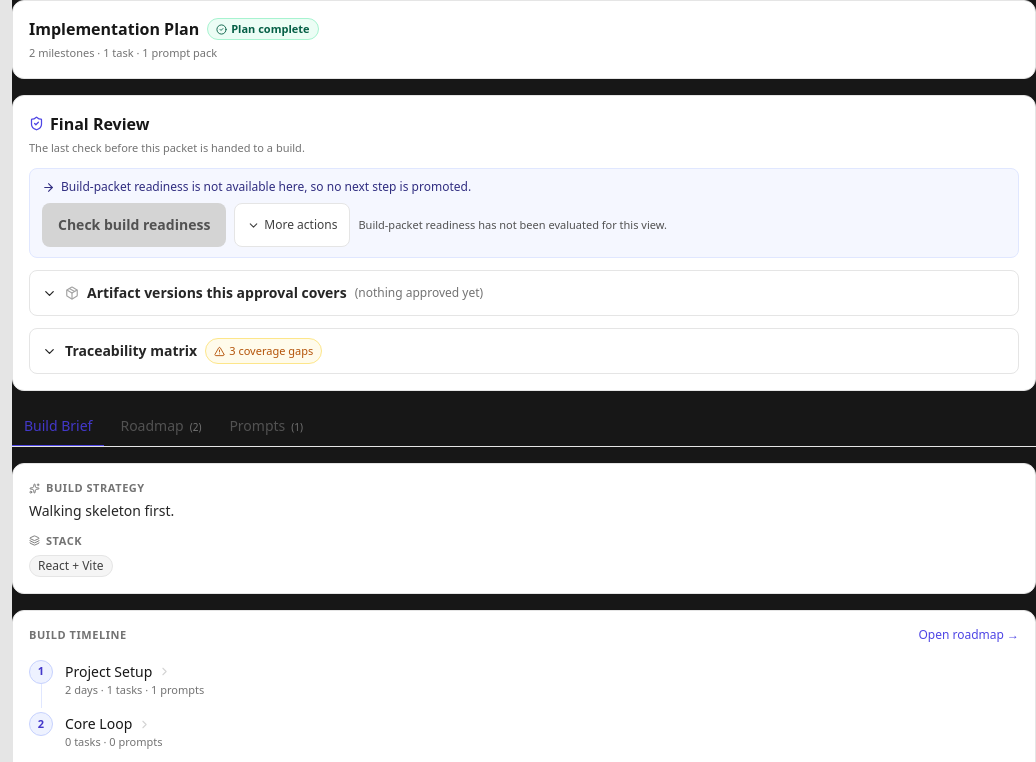
Scenario: ImplementationPlanRenderer (consolidated view) › renders the coverage matrix inside Final Review with explicit cell states
Step 1. Click the button with test id "final-review-coverage-toggle" → (131, 350), box left=30, top=329, right=1018, bottom=373
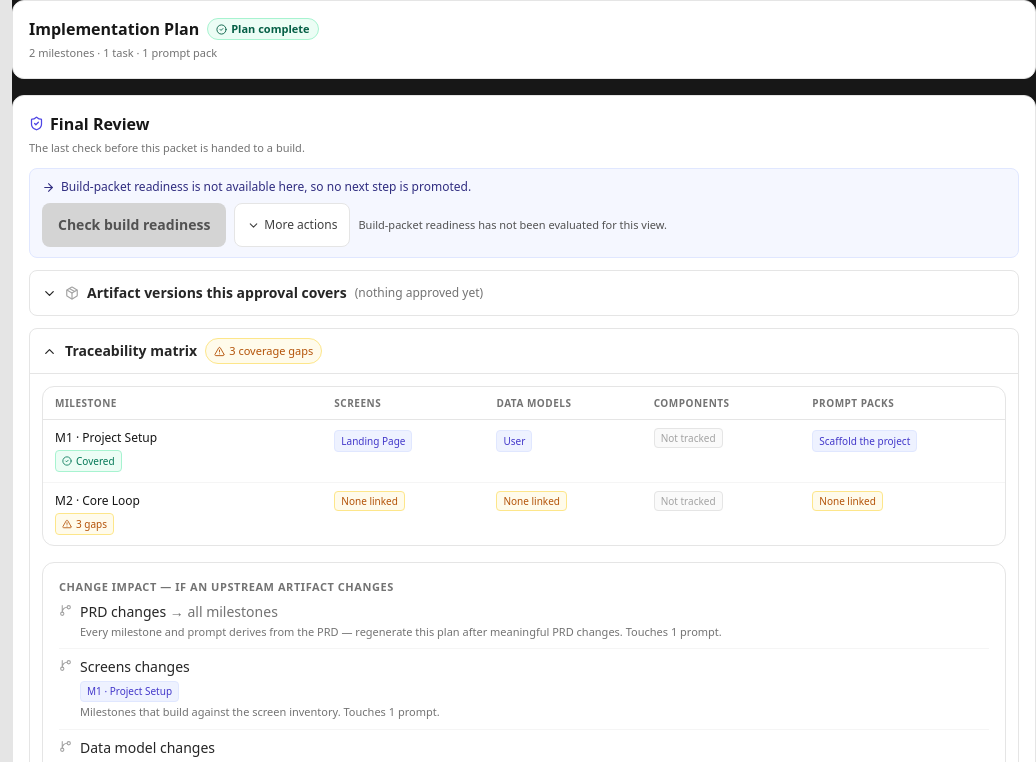
Expected: the text "Landing Page" is shown, left=334, top=430, right=412, bottom=452
Expected: the 1st text "None linked" is shown, left=334, top=491, right=405, bottom=511
Expected: the text "Not tracked" in the row of "Landing Page" is shown, left=661, top=431, right=716, bottom=445
